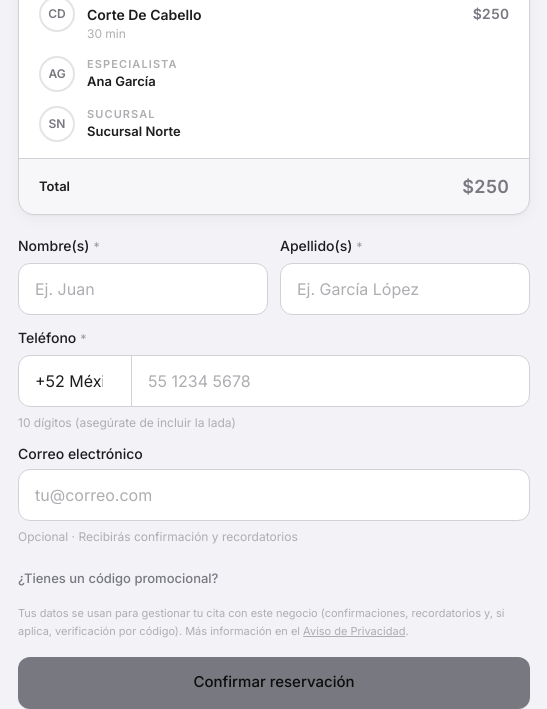
Test: ClientForm — código promocional › reason "branch": muestra el mensaje del backend indicando que el código no aplica en esa sucursal
(page scrolled)
Step 1. Click the button "¿Tienes un código promocional?" → (118, 579), box [18,569,218,588]
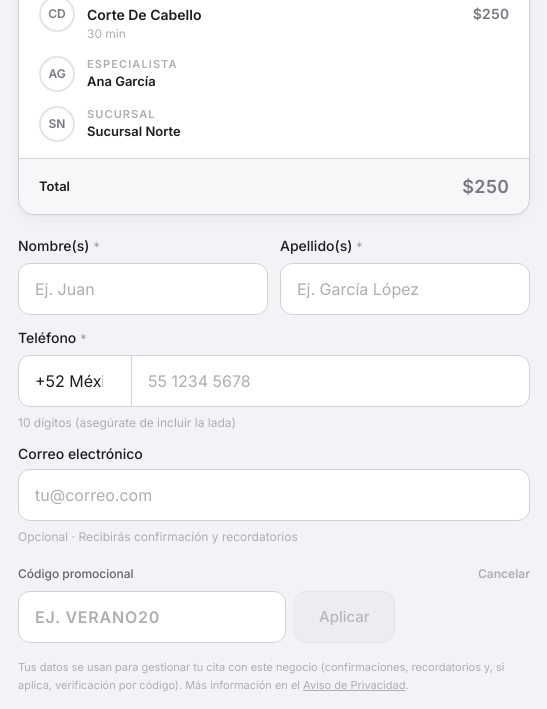
Step 2. Type "SOLOCENTRO" into the field with placeholder "Ej. VERANO20" → (152, 617), box [18,591,286,643]
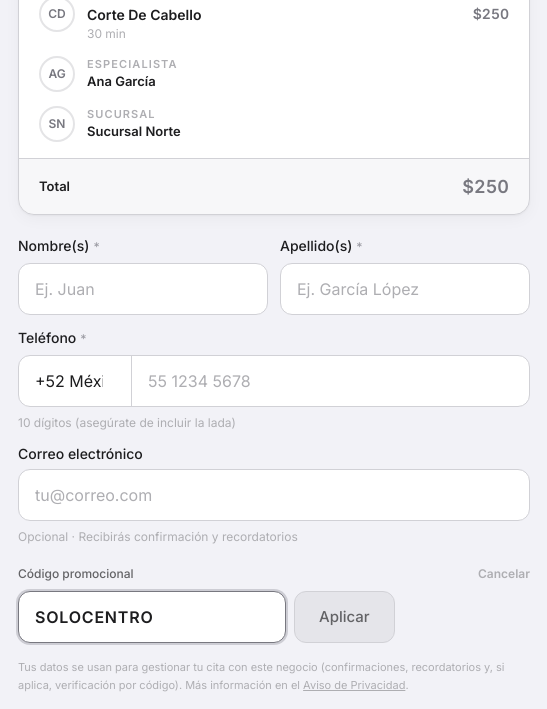
Step 3. Click the button "Aplicar" → (344, 617), box [294,591,395,643]
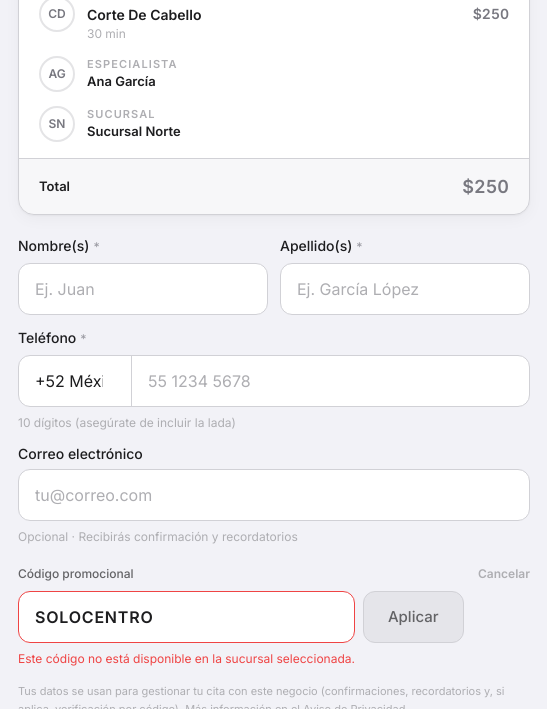
Now the text "Este código no está disponible en la sucursal seleccionada." is shown, box [18,651,355,667]
